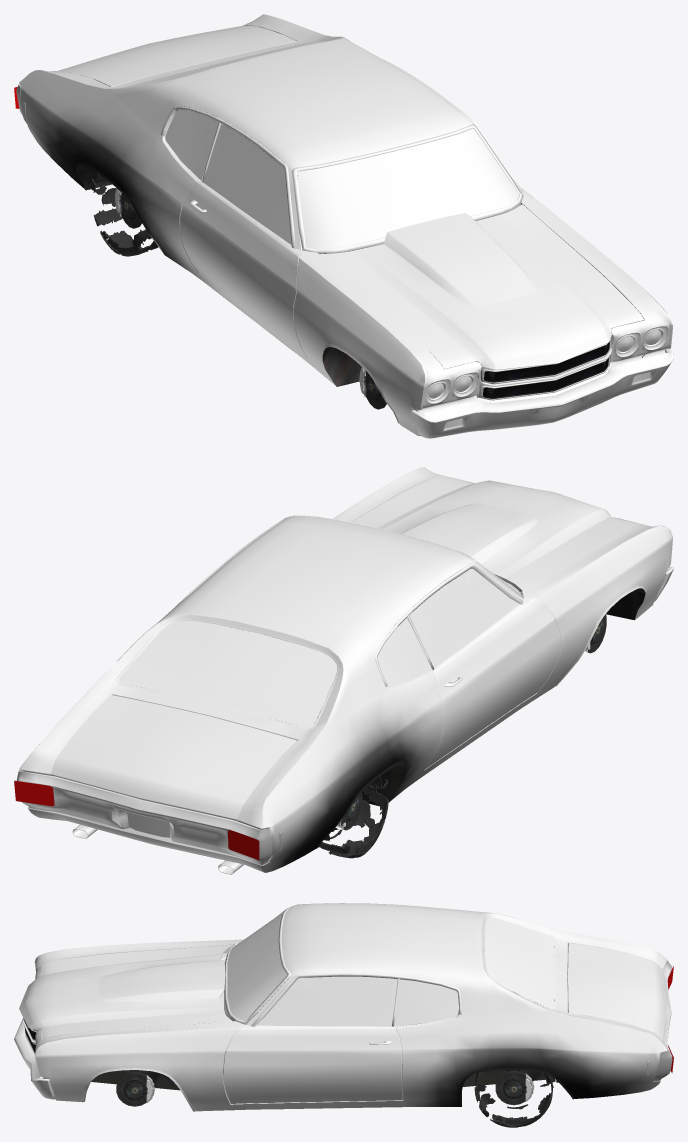
File: 02_Chevelle.fbx
The picture shows the model from 3 angles, top to bottom: view 1: azimuth 30°, elevation 25°; view 2: azimuth 150°, elevation 25°; view 3: azimuth 270°, elevation 25°; orthographic projection. The views are drawn at different scales.
Parts seen in each view (by area): view 1: Body_Duco, Kit_00_Duco, Body_Glass, Body_Chrome, Body_Matte; view 2: Body_Duco, Body_Glass, Kit_00_Duco, Body_Chrome, BrakeLights, Body_Matte; view 3: Body_Duco, Body_Glass, Kit_00_Duco, Body_Chrome, Rotor (×2), Body_Matte.
Part boxes in pixels (x1,y1,x2,y2): Body_Duco: (19, 14, 672, 435); Kit_00_Duco: (320, 204, 644, 370); Body_Glass: (121, 41, 661, 398); Body_Chrome: (16, 40, 673, 438); Body_Matte: (77, 106, 654, 435); Body_Duco: (19, 467, 672, 872); Body_Glass: (118, 568, 519, 728); Kit_00_Duco: (351, 475, 642, 590); Body_Chrome: (16, 515, 673, 874); BrakeLights: (14, 780, 259, 860); Body_Matte: (317, 568, 646, 806); Body_Duco: (22, 903, 667, 1111); Body_Glass: (227, 911, 554, 1026); Kit_00_Duco: (19, 945, 232, 1039); Body_Chrome: (14, 903, 672, 1111); Rotor (×2): (116, 1070, 530, 1106); Body_Matte: (23, 978, 554, 1111).
Size of what is drawn, in the model's own units: 1.89 by 1.26 by 5.
